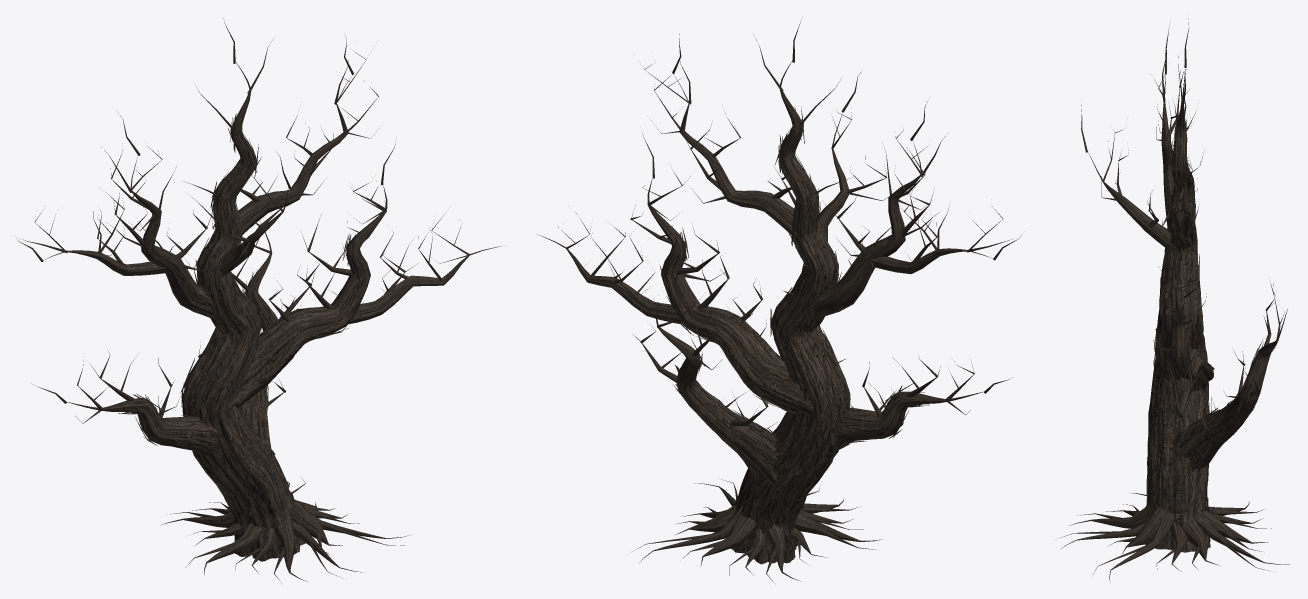
File: tree-v4.glb
The picture shows the model from 3 angles, left to right: view 1: azimuth 30°, elevation 25°; view 2: azimuth 150°, elevation 25°; view 3: azimuth 270°, elevation 25°; orthographic projection. The views are drawn at different scales.
Visible parts, largest first — view 1: Sculpted bark roots and fine branches; view 2: Sculpted bark roots and fine branches; view 3: Sculpted bark roots and fine branches.
Boxes of the visible parts, x1,y1,x2,y2 form: Sculpted bark roots and fine branches: (17, 18, 502, 582); Sculpted bark roots and fine branches: (539, 20, 1021, 581); Sculpted bark roots and fine branches: (1060, 18, 1289, 581).
Bounding box in the file's own units: 6.29 × 6.7 × 2.84.
1 material, 1 textured.
